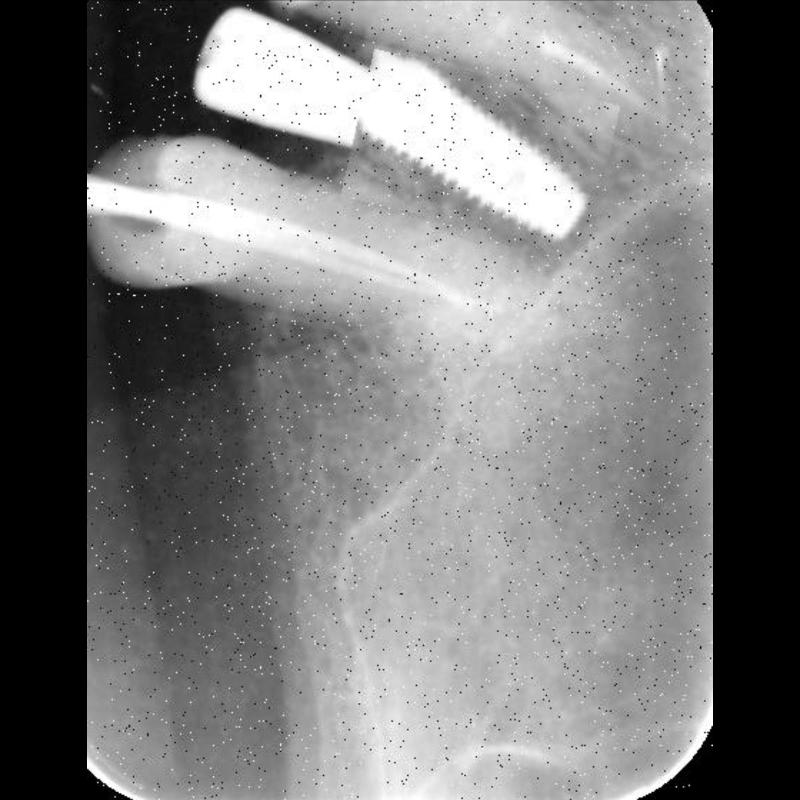Dentium: (348, 62, 614, 238)
